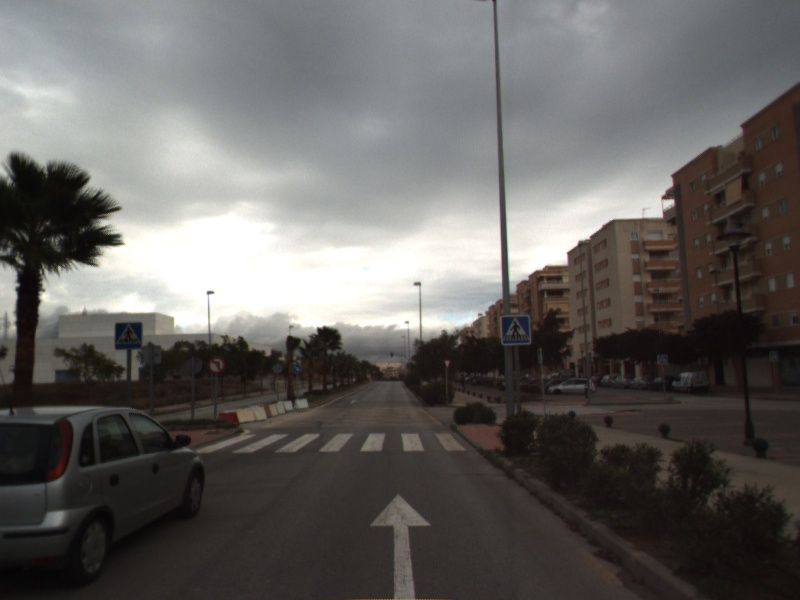STRAIGHT: (368, 491, 433, 600)
